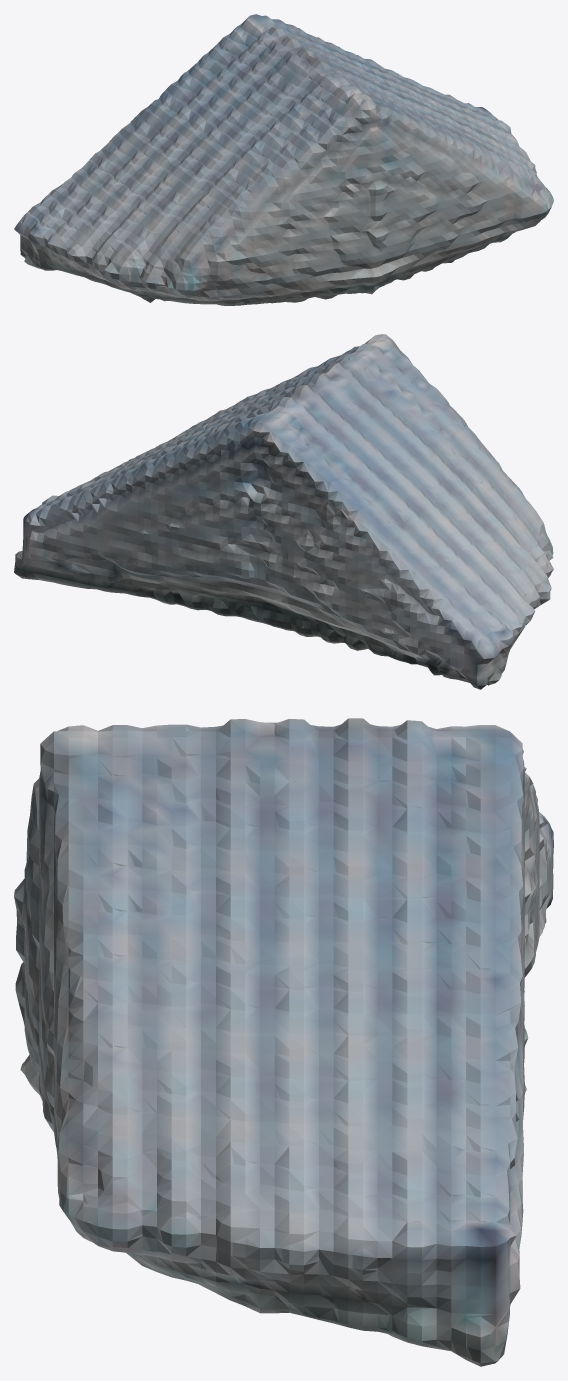
Rendered from beiyangyuan-zhengdong-library-download.glb.
3 renders of one model, top to bottom at view 1: azimuth 30°, elevation 25°; view 2: azimuth 150°, elevation 25°; view 3: azimuth 270°, elevation 25°, orthographic. The views are drawn at different scales.
Parts seen in each view (by area): view 1: world; view 2: world; view 3: world.
Boxes of the visible parts, x1,y1,x2,y2 form: world: (14, 14, 553, 305); world: (14, 334, 553, 689); world: (14, 718, 553, 1366).
Bounding box in the file's own units: 0.9936 × 0.4369 × 0.5027.
